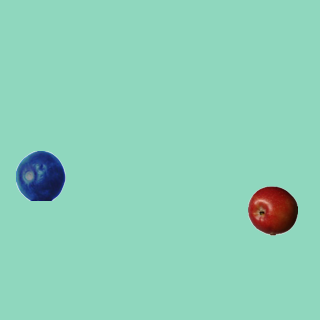Apple Braeburn: (247, 185, 297, 235)
Huckleberry: (15, 150, 65, 200)
